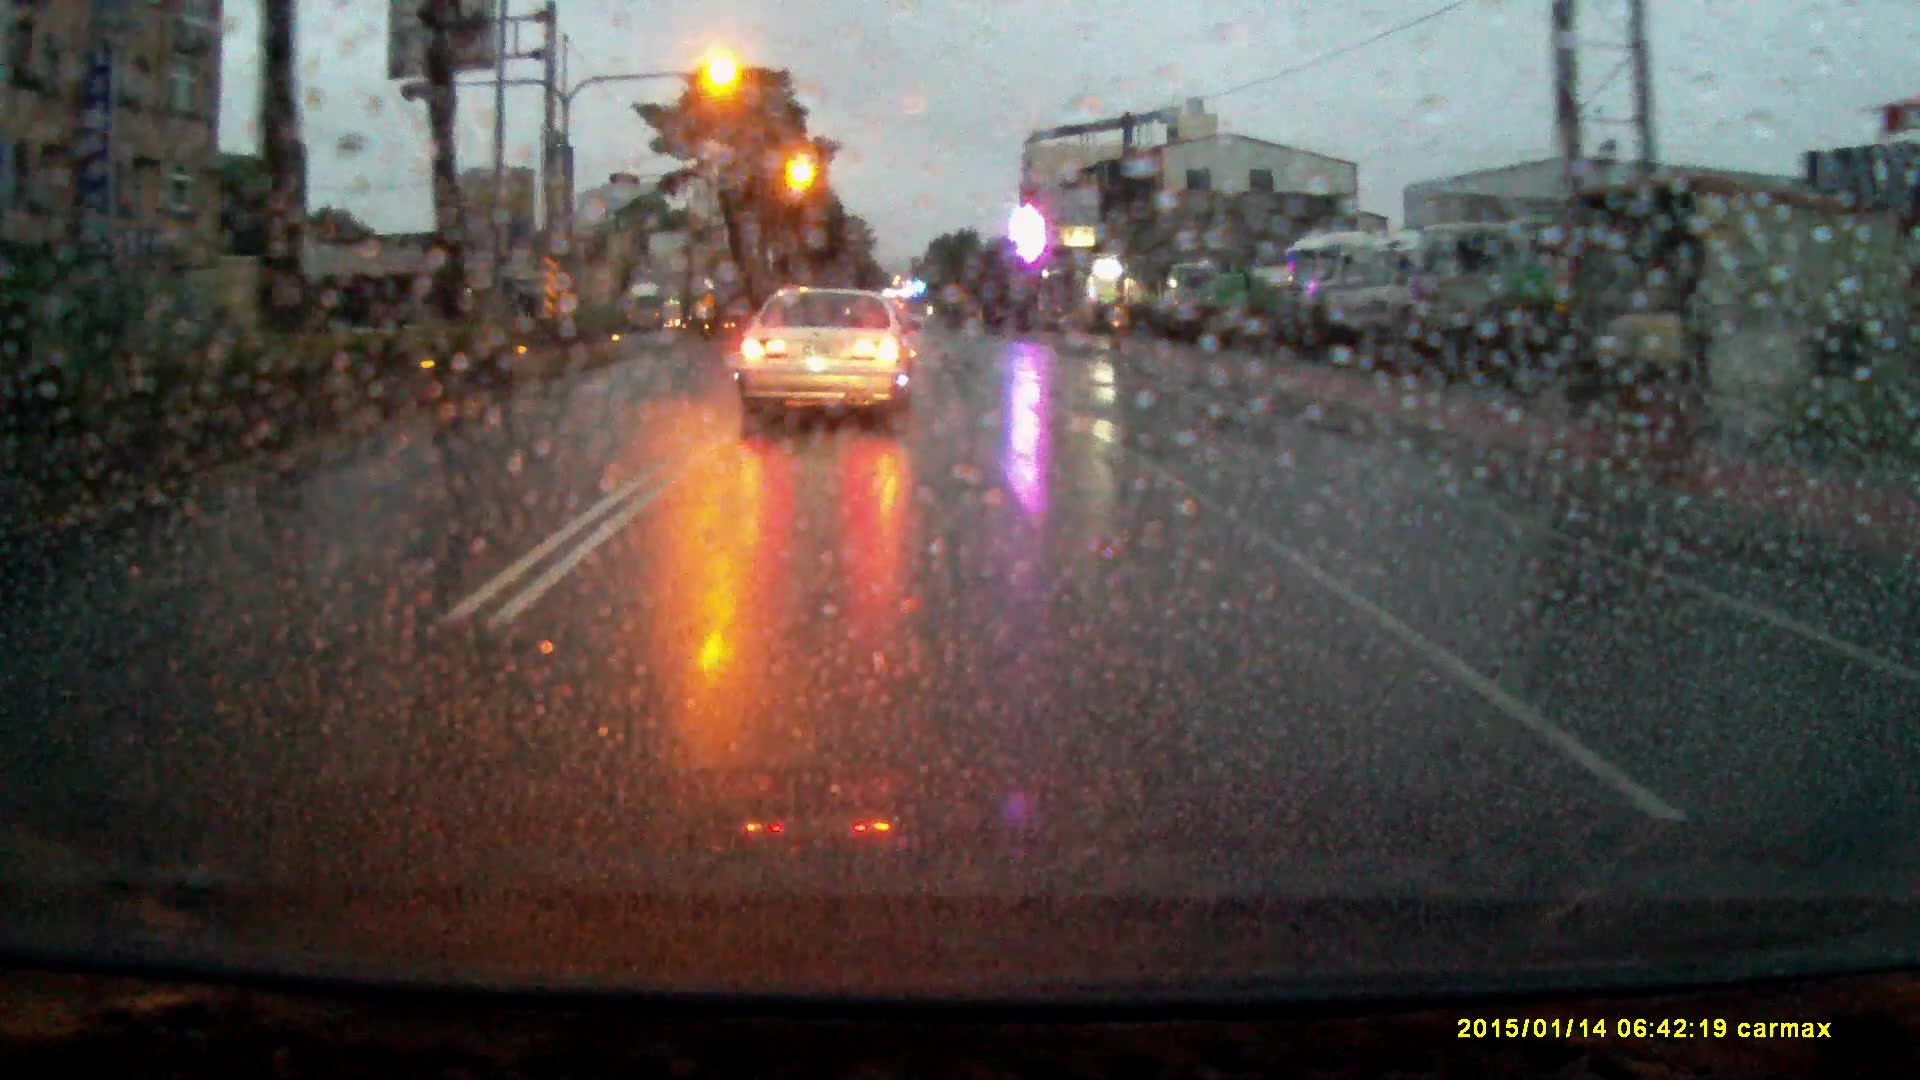vehicle: (737, 289, 920, 435), (1411, 225, 1524, 377), (1332, 233, 1427, 360), (1291, 237, 1377, 345), (1204, 269, 1298, 328), (1167, 260, 1226, 334), (626, 286, 683, 334)
